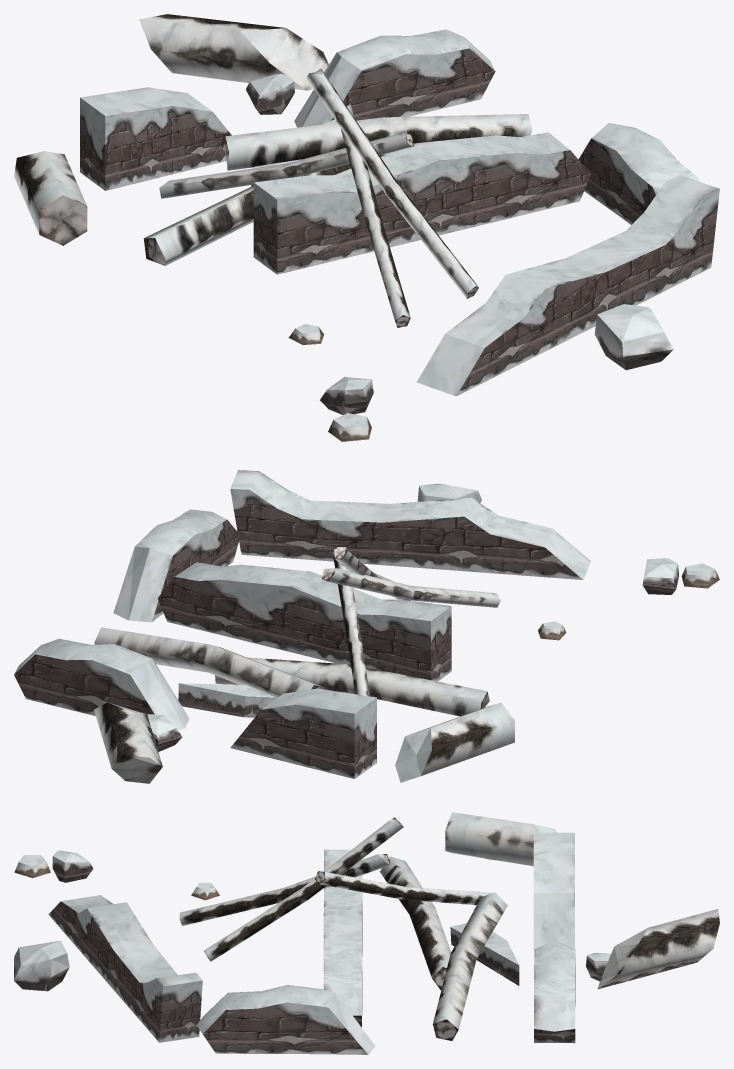
File: environment_building_xuedifeixu_001_b.FBX
3 views of the same model, one above another, from view 1: azimuth 30°, elevation 25°; view 2: azimuth 150°, elevation 25°; view 3: azimuth 270°, elevation 25° (orthographic). The views are drawn at different scales.
Parts seen in each view (by area): view 1: environment_building_xuedifeixu_001_b; view 2: environment_building_xuedifeixu_001_b; view 3: environment_building_xuedifeixu_001_b.
Boxes of the visible parts, x1,y1,x2,y2 form: environment_building_xuedifeixu_001_b: (14, 14, 719, 441); environment_building_xuedifeixu_001_b: (14, 470, 719, 783); environment_building_xuedifeixu_001_b: (14, 812, 719, 1054).
Bounding box in the file's own units: 280 × 81.21 × 407.
